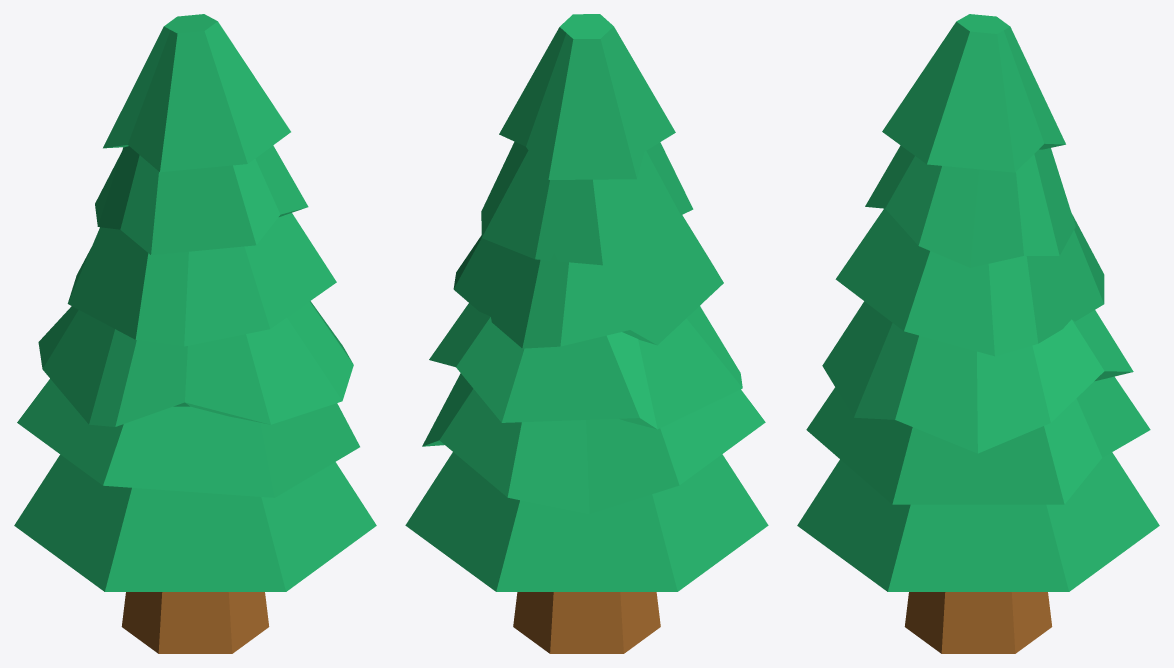
File: Tree_Pine.fbx
3 views of the same model, side by side, from view 1: azimuth 30°, elevation 25°; view 2: azimuth 150°, elevation 25°; view 3: azimuth 270°, elevation 25° (orthographic).
Visible parts, largest first — view 1: Evergreen.001; view 2: Evergreen.001; view 3: Evergreen.001.
Part boxes in pixels (x1,y1,x2,y2): Evergreen.001: (14, 14, 376, 653); Evergreen.001: (405, 14, 768, 653); Evergreen.001: (797, 14, 1159, 653).
Bounding box in the file's own units: 444 × 904 × 492.
